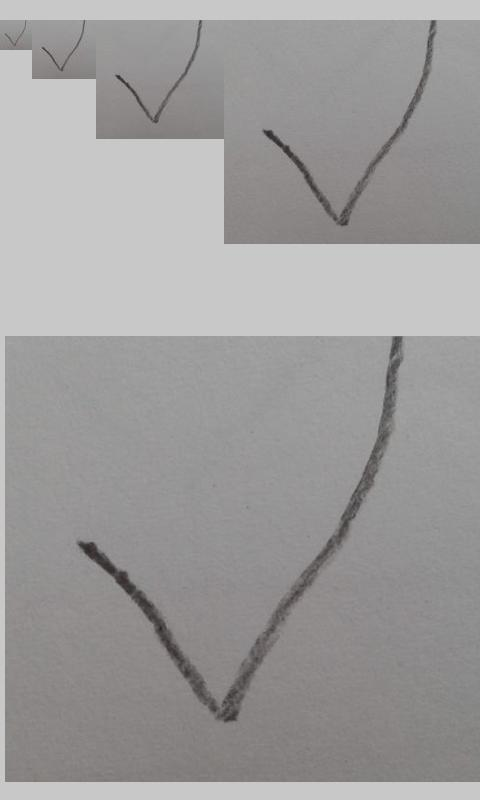check_box: (80, 347, 402, 725), (263, 37, 434, 227), (115, 29, 201, 124), (42, 22, 85, 71), (4, 22, 27, 47)
